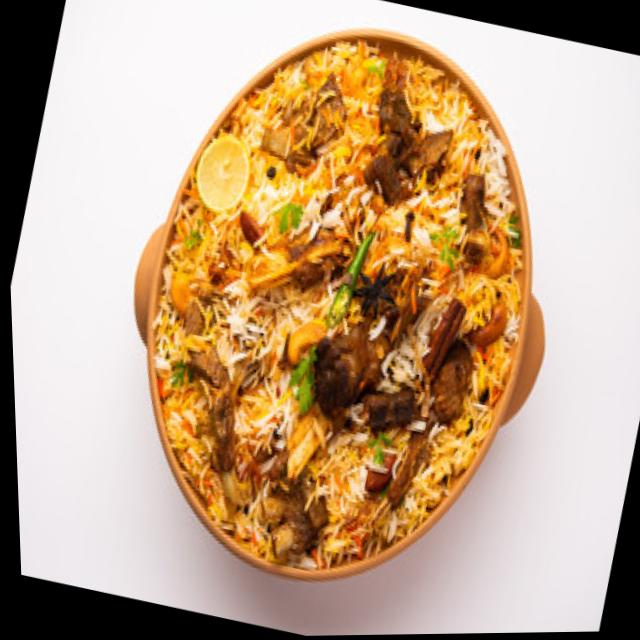BIRIYANI: (154, 37, 524, 565)
